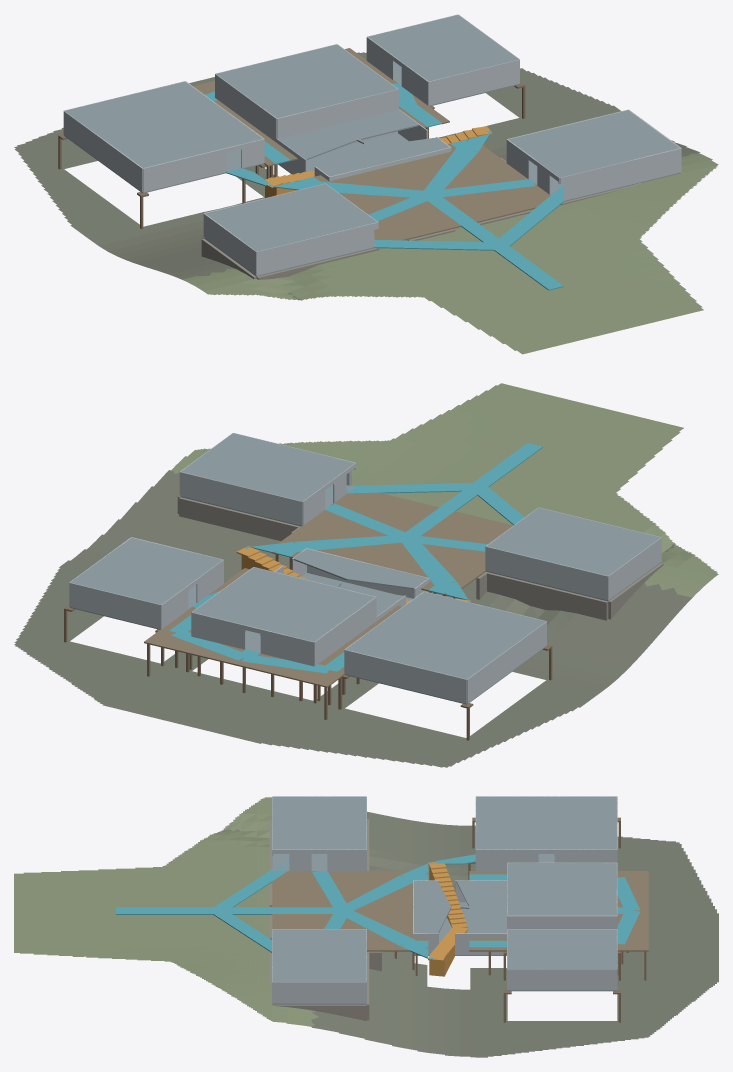
Rendered from open-circulation.glb.
3 renders of one model, top to bottom at view 1: azimuth 30°, elevation 25°; view 2: azimuth 150°, elevation 25°; view 3: azimuth 270°, elevation 25°, orthographic. The views are drawn at different scales.
Visible parts, largest first — view 1: Saved editor macroterrain WLD-06, Ceiling cap boathouse, Ceiling cap fish, Ceiling cap cottage-a, Ceiling cap cottage-b, Ceiling cap net, Flat route shell Wall cottage-a S, Flat route shell Wall cottage-b S, Wall fish S, Wall net S, Flat route shell Wall boathouse S, Wall boathouse W (+24 smaller); view 2: Saved editor macroterrain WLD-06, Ceiling cap boathouse, Ceiling cap fish, Ceiling cap cottage-b, Ceiling cap cottage-a, Ceiling cap net, Wall cottage-a N, Wall boathouse N, Wall cottage-b N, Wall net N, Wall boathouse W, Wall fish W (+16 smaller); view 3: Saved editor macroterrain WLD-06, Ceiling cap boathouse, Ceiling cap fish, Ceiling cap cottage-a, Ceiling cap cottage-b, Ceiling cap net, Wall net E, Wall cottage-b E, Wall fish E, Flat route shell Wall boathouse E.001, Ceiling cap undercroft, Ceiling cap undercroft.004 (+20 smaller).
Boxes of the visible parts, x1,y1,x2,y2 form: Saved editor macroterrain WLD-06: [14, 52, 718, 354]; Ceiling cap boathouse: [64, 81, 263, 167]; Ceiling cap fish: [216, 44, 397, 118]; Ceiling cap cottage-a: [205, 184, 376, 251]; Ceiling cap cottage-b: [508, 110, 679, 177]; Ceiling cap net: [368, 15, 518, 81]; Flat route shell Wall cottage-a S: [256, 222, 378, 275]; Flat route shell Wall cottage-b S: [560, 148, 681, 200]; Wall fish S: [277, 89, 398, 138]; Wall net S: [428, 59, 519, 105]; Flat route shell Wall boathouse S: [143, 148, 226, 192]; Wall boathouse W: [63, 111, 142, 192]; Saved editor macroterrain WLD-06: [14, 383, 718, 767]; Ceiling cap boathouse: [345, 591, 545, 678]; Ceiling cap fish: [192, 567, 375, 641]; Ceiling cap cottage-b: [181, 433, 354, 501]; Ceiling cap cottage-a: [486, 507, 660, 575]; Ceiling cap net: [70, 538, 222, 604]; Wall cottage-a N: [485, 546, 608, 600]; Wall boathouse N: [344, 649, 466, 703]; Wall cottage-b N: [180, 471, 302, 525]; Wall net N: [69, 582, 161, 628]; Wall boathouse W: [467, 621, 546, 703]; Wall fish W: [314, 597, 376, 666]; Saved editor macroterrain WLD-06: [14, 797, 718, 1057]; Ceiling cap boathouse: [476, 796, 617, 849]; Ceiling cap fish: [507, 863, 617, 915]; Ceiling cap cottage-a: [272, 796, 366, 849]; Ceiling cap cottage-b: [272, 929, 366, 981]; Ceiling cap net: [507, 929, 617, 968]; Wall net E: [507, 968, 617, 990]; Wall cottage-b E: [272, 982, 366, 1003]; Wall fish E: [507, 915, 617, 928]; Flat route shell Wall boathouse E.001: [476, 849, 538, 871]; Ceiling cap undercroft: [469, 880, 506, 906]; Ceiling cap undercroft.004: [469, 908, 506, 933].
Size of the model in its own units: 70 by 7.86 by 90.
